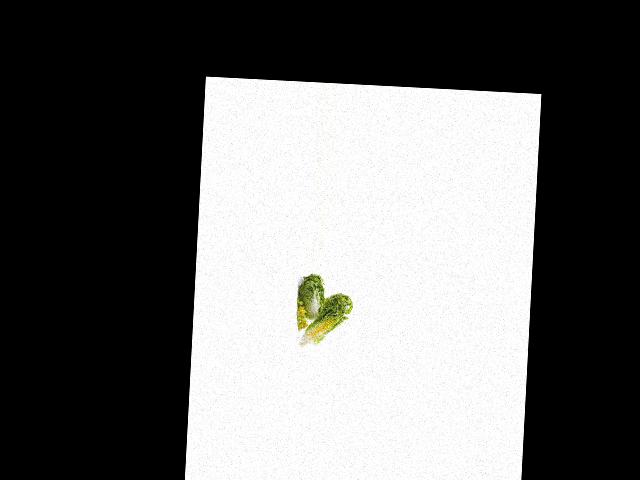lettuce: (294, 274, 327, 326)
